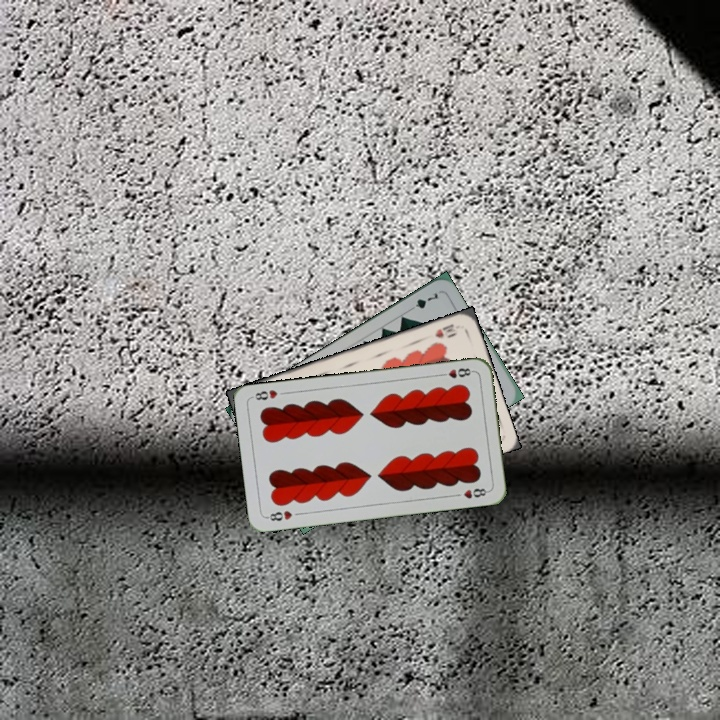G7: (404, 288, 441, 314)
H10: (431, 320, 461, 341)
H8: (436, 364, 476, 381), (263, 507, 295, 523)
